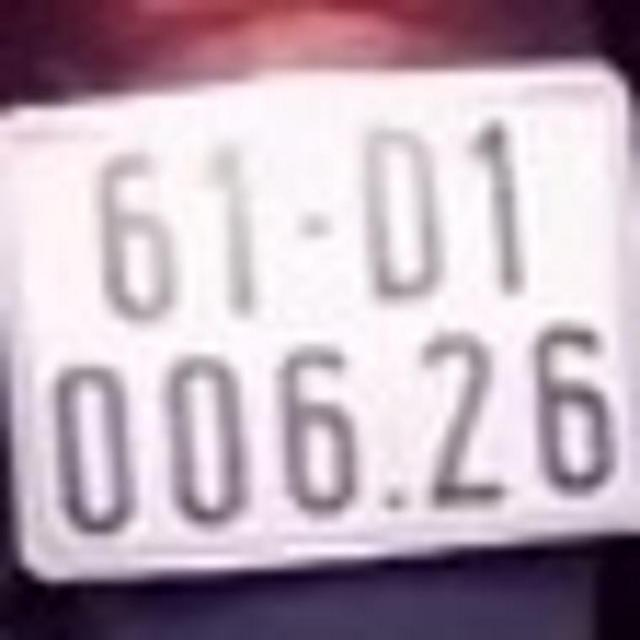0: (163, 348, 256, 532), (48, 357, 141, 538)
1: (459, 105, 538, 304), (192, 131, 272, 320)
2: (416, 320, 516, 510)
6: (90, 139, 185, 319), (530, 312, 616, 498), (276, 337, 360, 521)
D: (354, 112, 450, 304)
